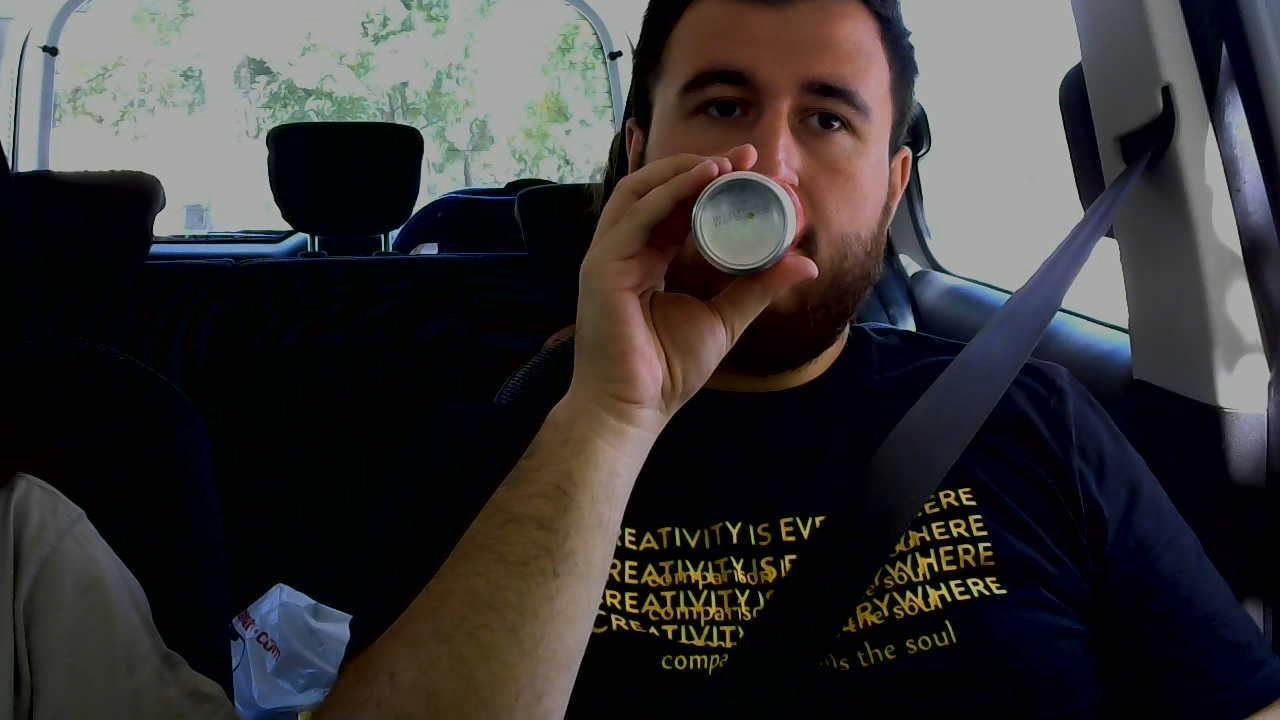Drinking: (590, 0, 910, 372)
